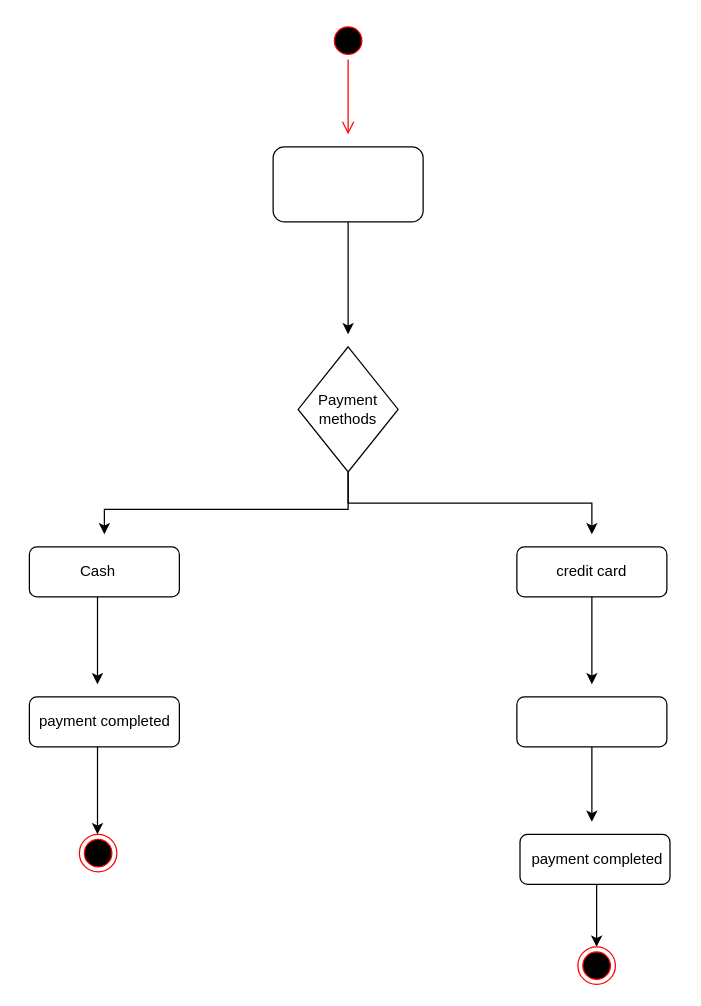
This 701x1006 diagram has some shape labels left out. Each missing label, with the centre of its shape:
enter payment details: pixel 591 721
Payment: pixel 347 184
